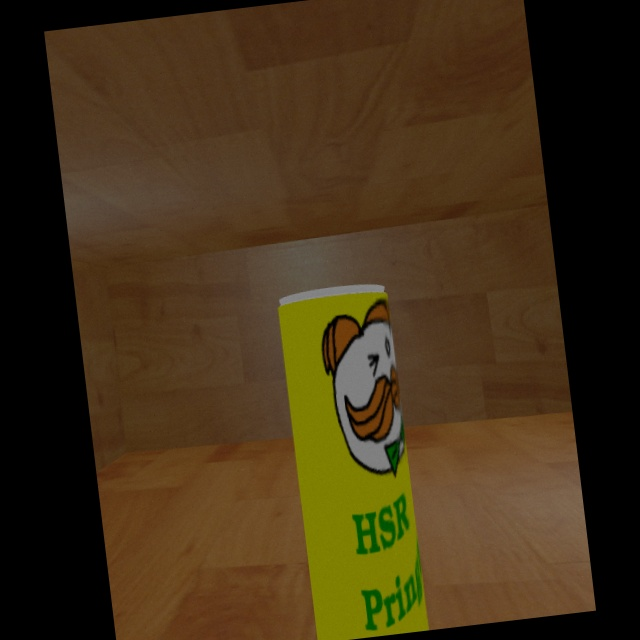chipsdose_gelb: (278, 283, 428, 640)
